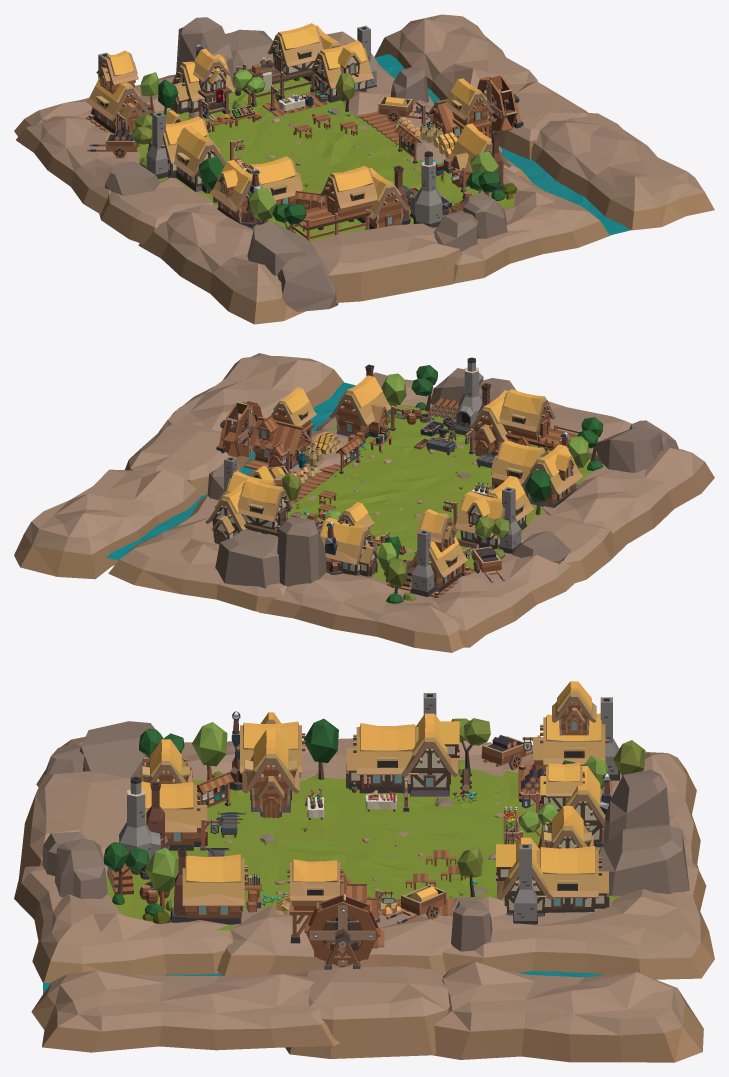
Rendered from echo_world_village_market.glb.
3 views of the same model, one above another, from view 1: azimuth 30°, elevation 25°; view 2: azimuth 150°, elevation 25°; view 3: azimuth 270°, elevation 25° (orthographic). The views are drawn at different scales.
Visible parts, largest first — view 1: samor_1112_435, samor_1112_422, samor_1112_421, samor_1112_437, samor_1112_431, samor_1112_441, samor_1112_424, samor_1112_423, samor_1112_440, samor_1112_52, samor_1112_427, samor_1112_48 (+43 smaller); view 2: samor_1112_441, samor_1112_426, samor_1112_422, samor_1112_434, samor_1112_424, samor_1112_435, samor_1112_431, samor_1112_440, samor_1112_439, samor_1112_38, samor_1112_423, samor_1112_39 (+40 smaller); view 3: samor_1112_441, samor_1112_435, samor_1112_434, samor_1112_437, samor_1112_440, samor_1112_427, samor_1112_442, samor_1112_431, samor_1112_421, samor_1112_38, samor_1112_439, samor_1112_374 (+47 smaller).
Part boxes in pixels (<box>): samor_1112_435: <box>531,112,714,230</box>; samor_1112_422: <box>138,204,305,324</box>; samor_1112_421: <box>311,223,461,302</box>; samor_1112_437: <box>433,168,609,283</box>; samor_1112_431: <box>240,100,421,184</box>; samor_1112_441: <box>374,14,537,100</box>; samor_1112_424: <box>16,116,146,214</box>; samor_1112_423: <box>99,177,213,244</box>; samor_1112_440: <box>484,81,588,159</box>; samor_1112_52: <box>277,252,338,311</box>; samor_1112_427: <box>128,123,324,205</box>; samor_1112_48: <box>247,220,317,275</box>; samor_1112_441: <box>14,469,200,579</box>; samor_1112_426: <box>258,572,463,652</box>; samor_1112_422: <box>542,448,714,558</box>; samor_1112_434: <box>108,495,294,613</box>; samor_1112_424: <box>429,553,578,647</box>; samor_1112_435: <box>158,353,343,440</box>; samor_1112_431: <box>287,454,456,536</box>; samor_1112_440: <box>125,421,249,496</box>; samor_1112_439: <box>330,404,492,480</box>; samor_1112_38: <box>215,529,279,588</box>; samor_1112_423: <box>521,514,614,583</box>; samor_1112_39: <box>277,516,326,586</box>; samor_1112_441: <box>433,961,703,1062</box>; samor_1112_435: <box>31,970,339,1052</box>; samor_1112_434: <box>442,854,714,979</box>; samor_1112_437: <box>14,855,233,982</box>; samor_1112_440: <box>285,966,449,1058</box>; samor_1112_427: <box>278,764,509,840</box>; samor_1112_442: <box>217,904,452,976</box>; samor_1112_431: <box>278,840,504,916</box>; samor_1112_421: <box>18,771,130,879</box>; samor_1112_38: <box>598,824,689,896</box>; samor_1112_439: <box>106,832,278,930</box>; samor_1112_374: <box>182,854,247,924</box>.
Bounding box in the file's own units: 60.38 × 16.81 × 60.46.
3 materials, 3 textured.
